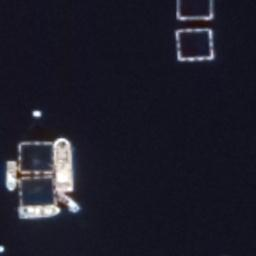square_solid: (15, 138, 61, 178), (16, 174, 61, 211), (173, 25, 216, 63), (173, 1, 217, 23)
